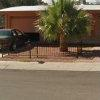Palm tree: (36, 3, 88, 57)
